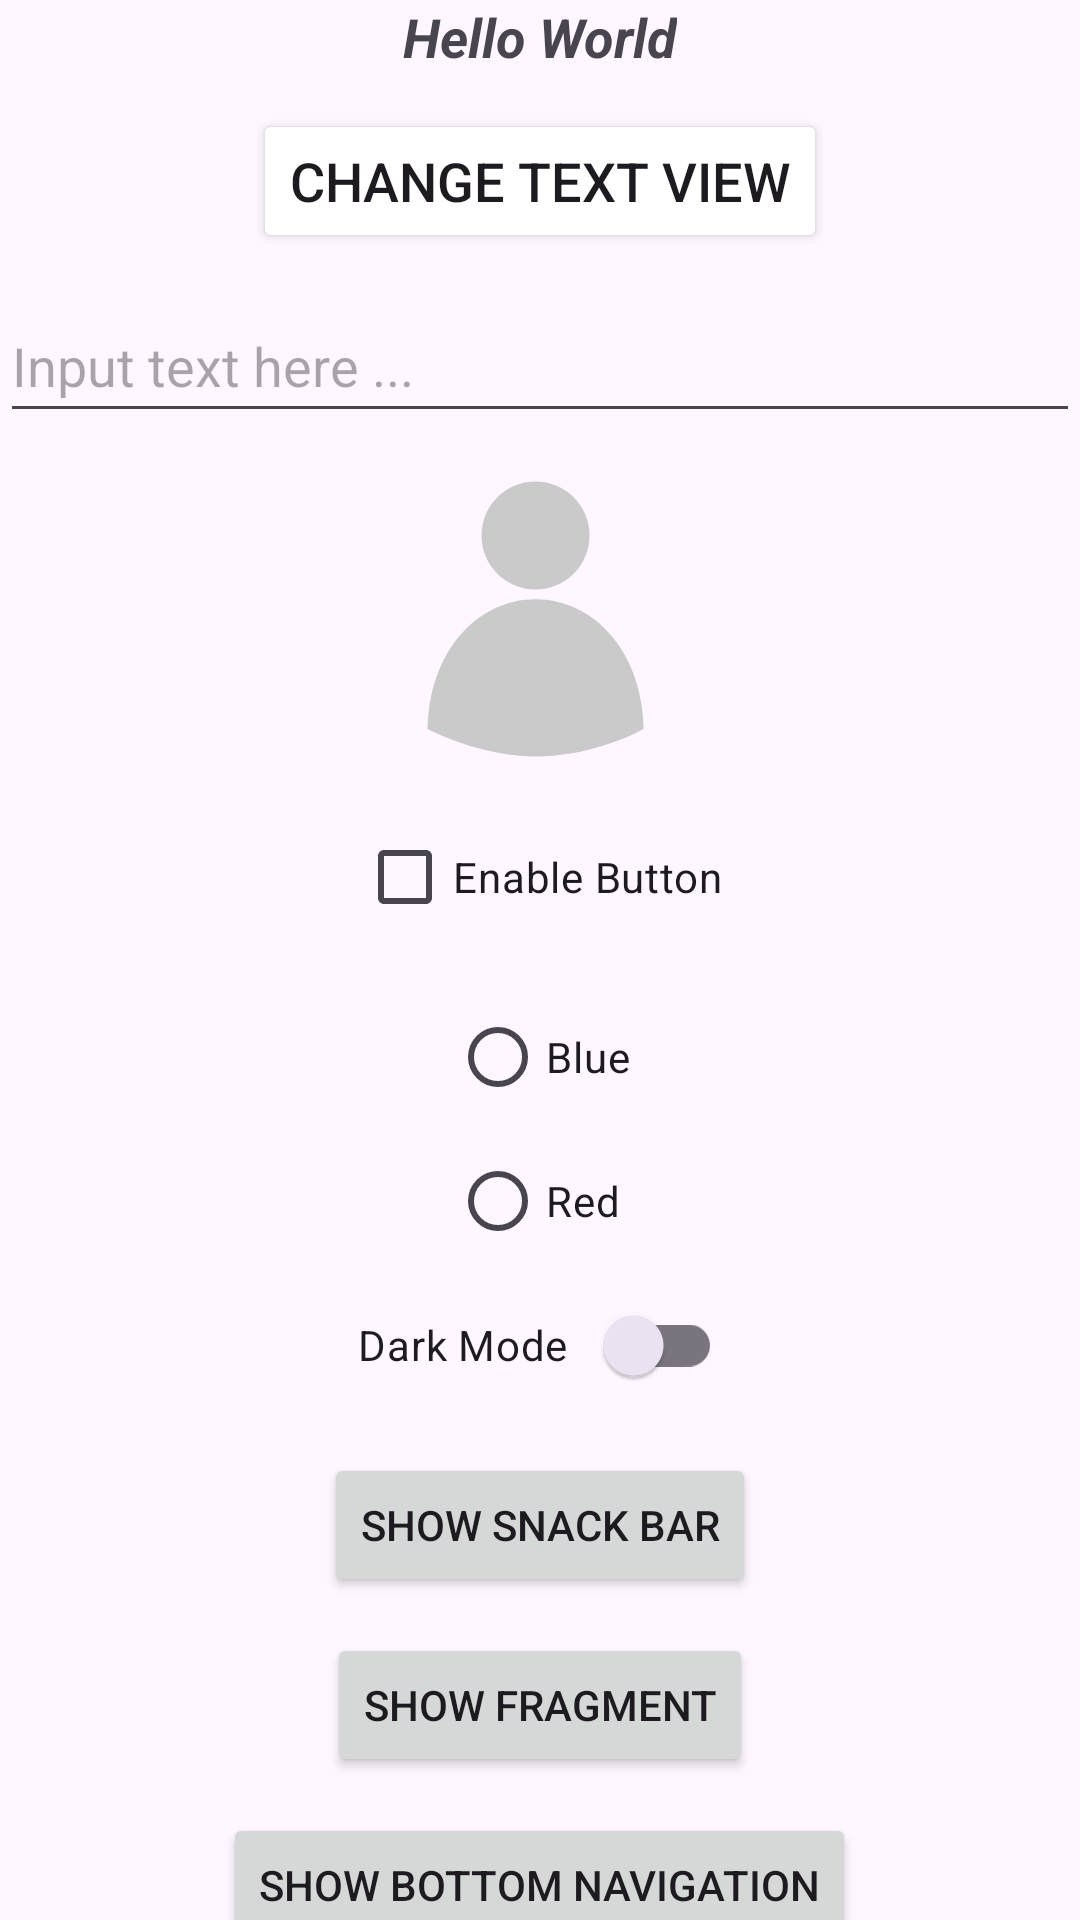

Named icons in this screenshot (1080px x 1920px) and their bounding boxes, (left=x1, top=y1, right=x2, bottom=y2):
profile: (left=427, top=481, right=644, bottom=757)
